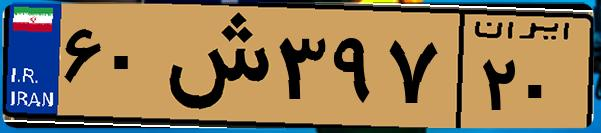0: (525, 38, 570, 115), (110, 28, 158, 98)
2: (475, 38, 525, 113)
3: (270, 28, 330, 110)
6: (57, 26, 110, 100)
7: (385, 28, 445, 110)
9: (330, 28, 385, 110)
ش: (158, 12, 270, 120)
